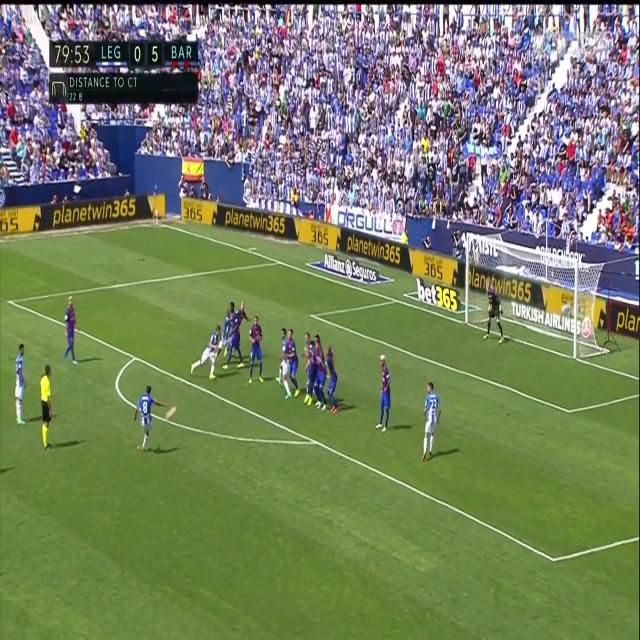Ball: (165, 401, 178, 424)
Goalkeeper: (480, 279, 508, 345)
Player: (132, 382, 168, 453), (420, 377, 443, 462), (188, 324, 222, 381), (62, 292, 84, 370), (223, 300, 245, 372), (373, 352, 392, 434), (274, 324, 292, 406), (246, 314, 265, 387), (286, 324, 304, 401), (14, 342, 28, 427), (302, 330, 315, 410), (314, 333, 326, 412), (326, 343, 339, 415)
Referee: (38, 363, 55, 452)
